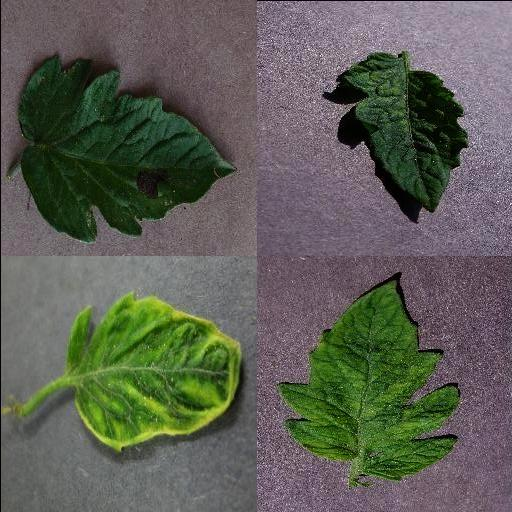Early Blight: (20, 56, 234, 246)
Mosaic Virus: (274, 277, 460, 483), (339, 50, 468, 214)
Yellow Leaf Curl Virus: (65, 291, 241, 451)
